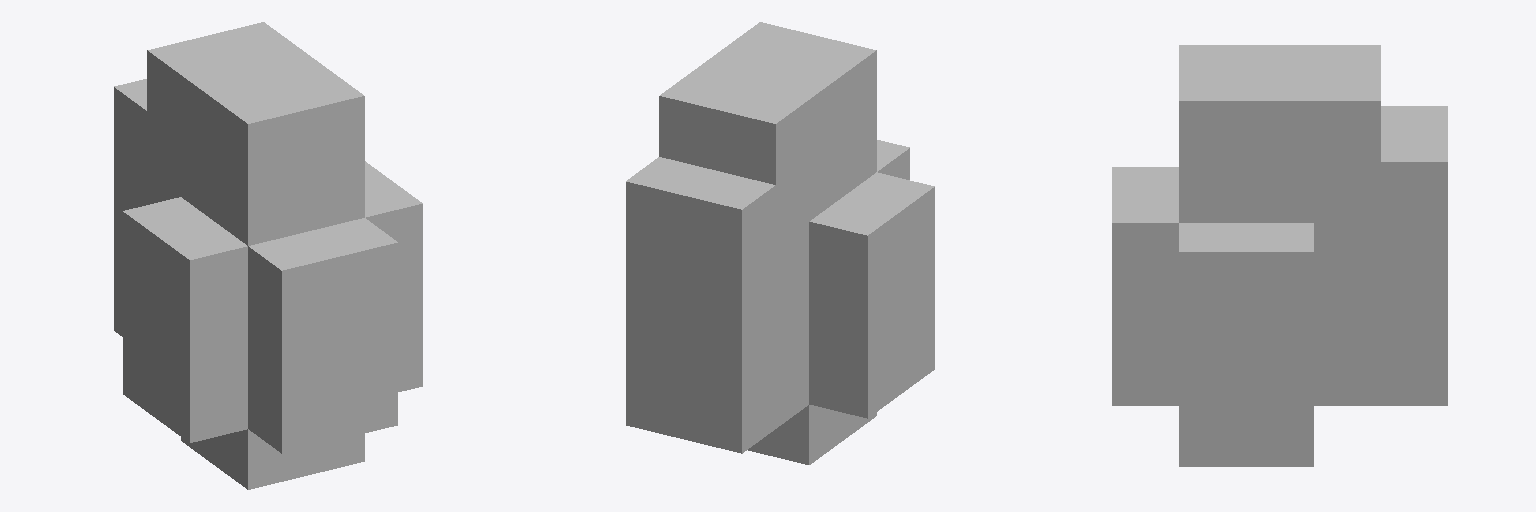
Rendered from Granade.obj.
The picture shows the model from 3 angles: view 1: azimuth 30°, elevation 25°; view 2: azimuth 150°, elevation 25°; view 3: azimuth 270°, elevation 25°; orthographic projection.
Visible parts, largest first — view 1: Granade; view 2: Granade; view 3: Granade.
Boxes of the visible parts, box(x1,y1,x2,y2) form: Granade: box(114, 22, 422, 489); Granade: box(626, 22, 934, 464); Granade: box(1112, 45, 1447, 466).
Size of the model in its own units: 4 by 6 by 5.